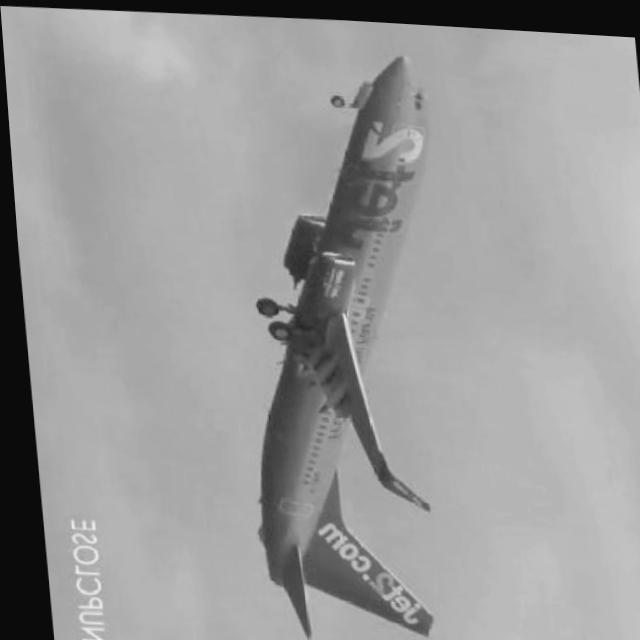aeroplane: (211, 35, 474, 640)
